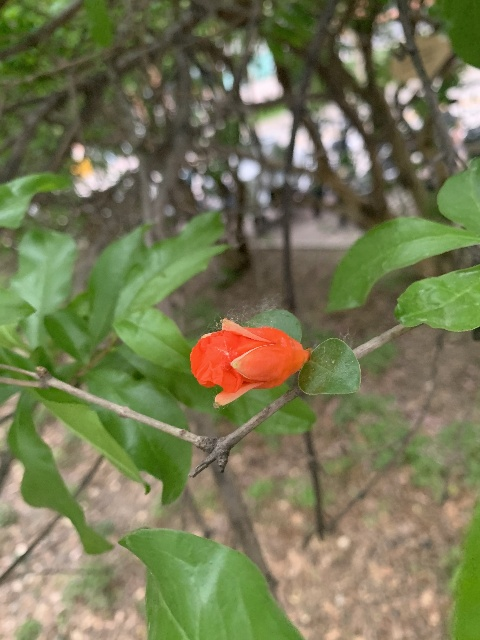flower: (190, 319, 309, 406)
